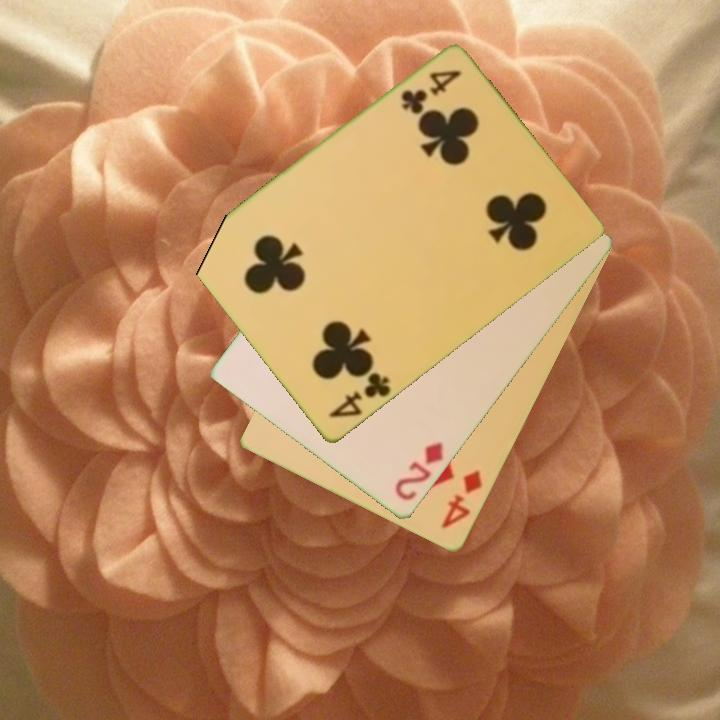2d: (391, 439, 446, 504)
4c: (325, 369, 394, 422), (397, 67, 464, 117)
4d: (437, 467, 486, 532)
